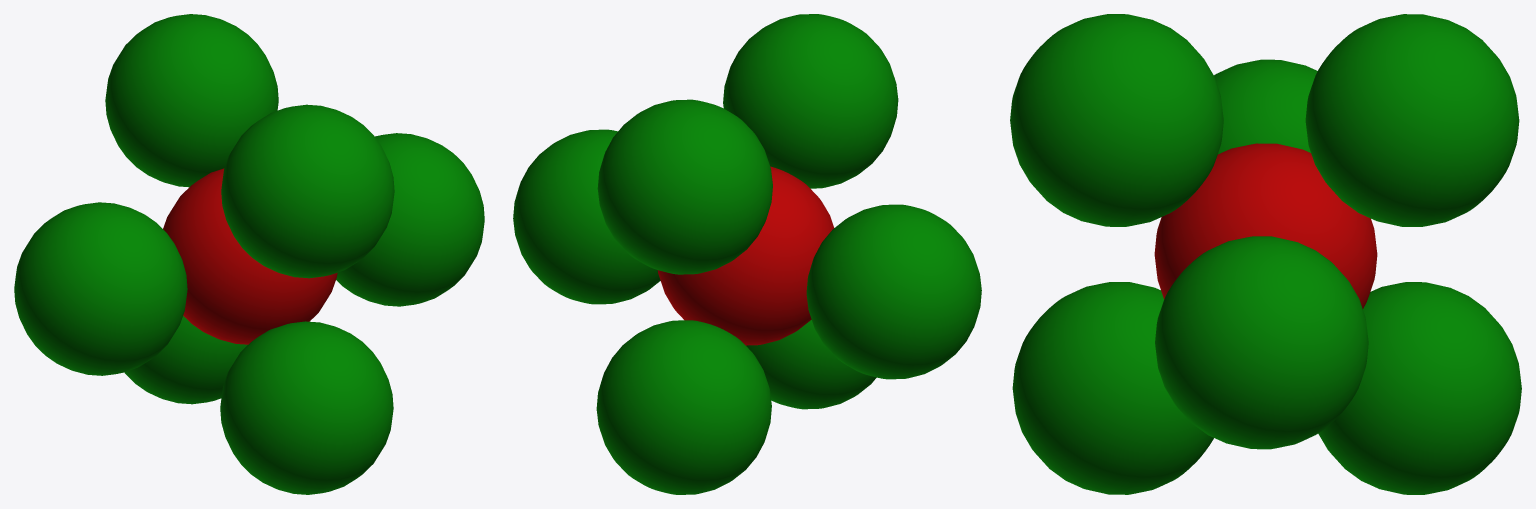
The picture shows the model from 3 angles, left to right: view 1: azimuth 30°, elevation 25°; view 2: azimuth 150°, elevation 25°; view 3: azimuth 270°, elevation 25°; orthographic projection. The views are drawn at different scales.
Visible parts, largest first — view 1: Sphere, Sphere.003, Sphere.005, Sphere.002, Sphere.001, Sphere.006, Sphere.004; view 2: Sphere.002, Sphere, Sphere.004, Sphere.005, Sphere.001, Sphere.006, Sphere.003; view 3: Sphere.001, Sphere.005, Sphere.002, Sphere.004, Sphere.003, Sphere.006, Sphere.
Part boxes in pixels (<box>): Sphere: <box>14,202,187,375</box>; Sphere.003: <box>220,321,393,494</box>; Sphere.005: <box>221,104,394,278</box>; Sphere.002: <box>105,14,278,187</box>; Sphere.001: <box>336,133,484,306</box>; Sphere.006: <box>163,168,337,344</box>; Sphere.004: <box>124,316,247,404</box>; Sphere.002: <box>597,99,772,274</box>; Sphere: <box>806,204,981,379</box>; Sphere.004: <box>596,320,771,494</box>; Sphere.005: <box>723,14,898,188</box>; Sphere.001: <box>513,129,660,304</box>; Sphere.006: <box>657,166,833,345</box>; Sphere.003: <box>746,320,876,409</box>; Sphere.001: <box>1155,236,1368,449</box>; Sphere.005: <box>1010,14,1223,226</box>; Sphere.002: <box>1305,14,1519,226</box>; Sphere.004: <box>1318,282,1521,494</box>; Sphere.003: <box>1012,282,1213,494</box>; Sphere.006: <box>1154,143,1377,308</box>; Sphere: <box>1214,59,1317,154</box>.
Size of the model in its own units: 2.44 by 1.98 by 1.97.
